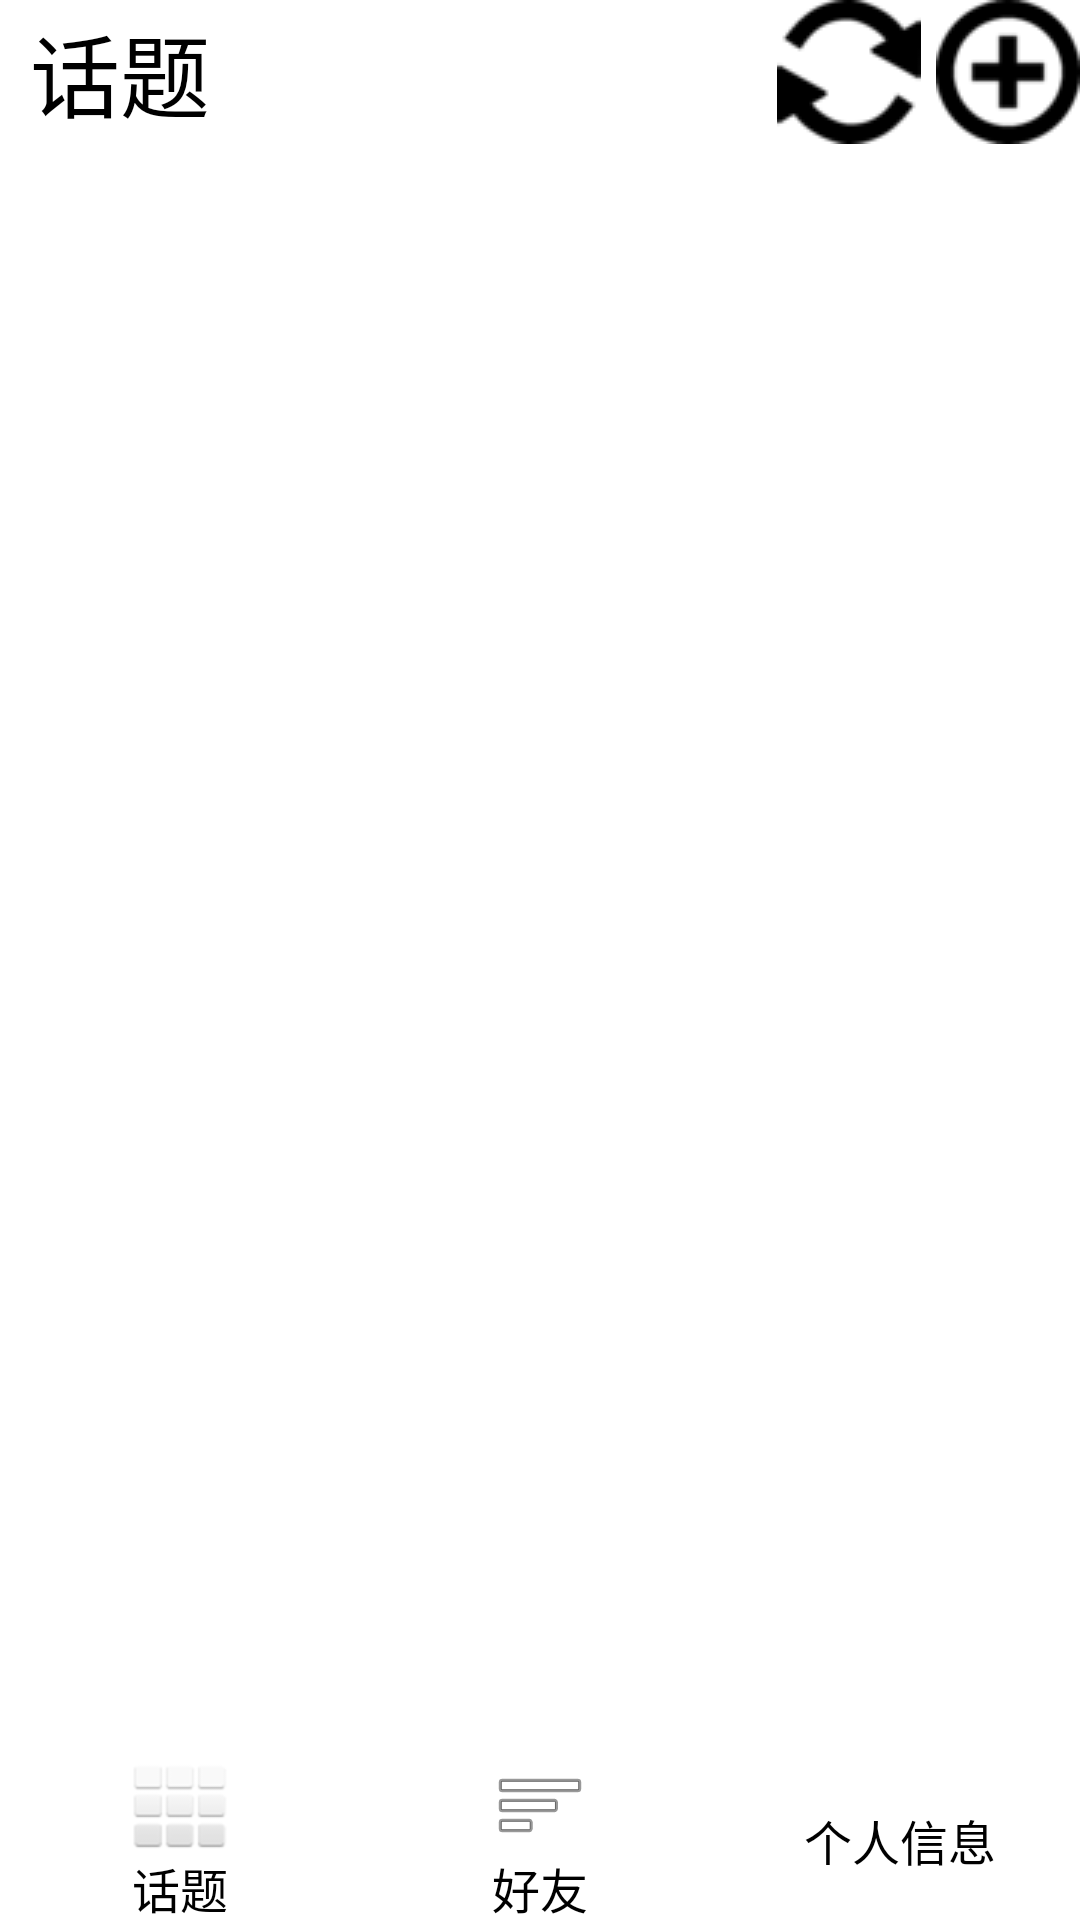

Screen size 1080px×1920px. Icon name, then its box in pixels as [x1, y1, x2, y2]:
add: [936, 0, 1080, 144]
refresh: [777, 0, 921, 144]
